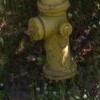Hydrant: (19, 0, 78, 82)
